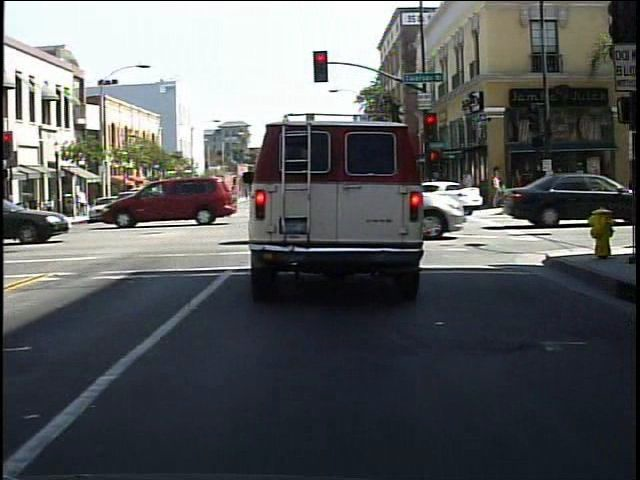person: (529, 158, 549, 208), (509, 164, 530, 208)
